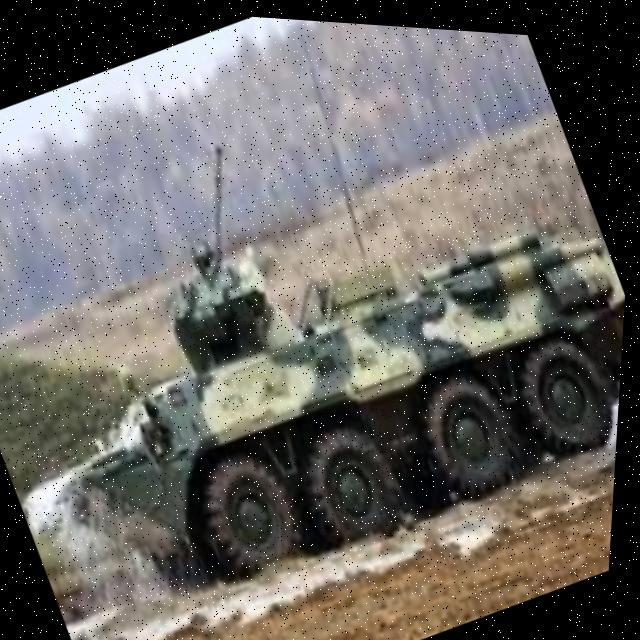MIL_APC: (0, 58, 637, 640)
